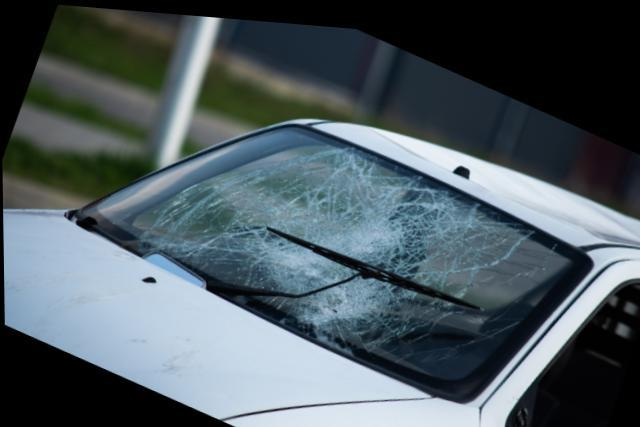dent: (372, 122, 637, 233)
glass shatter: (78, 118, 587, 387)
